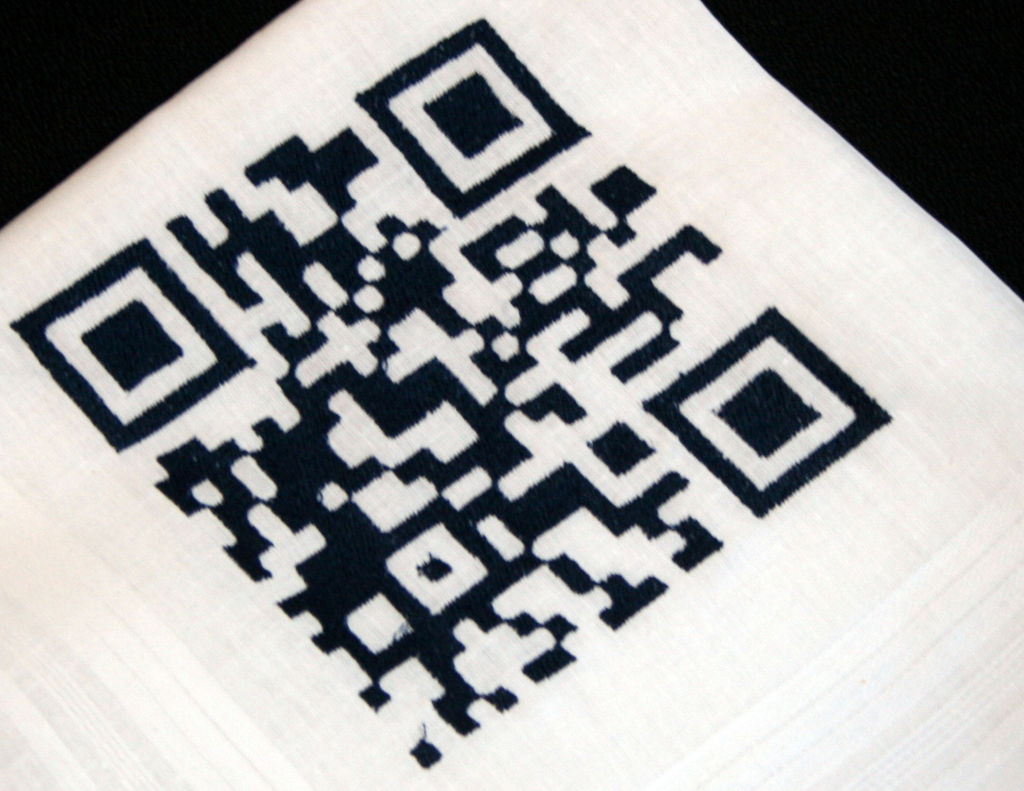QR: (10, 22, 892, 774)
